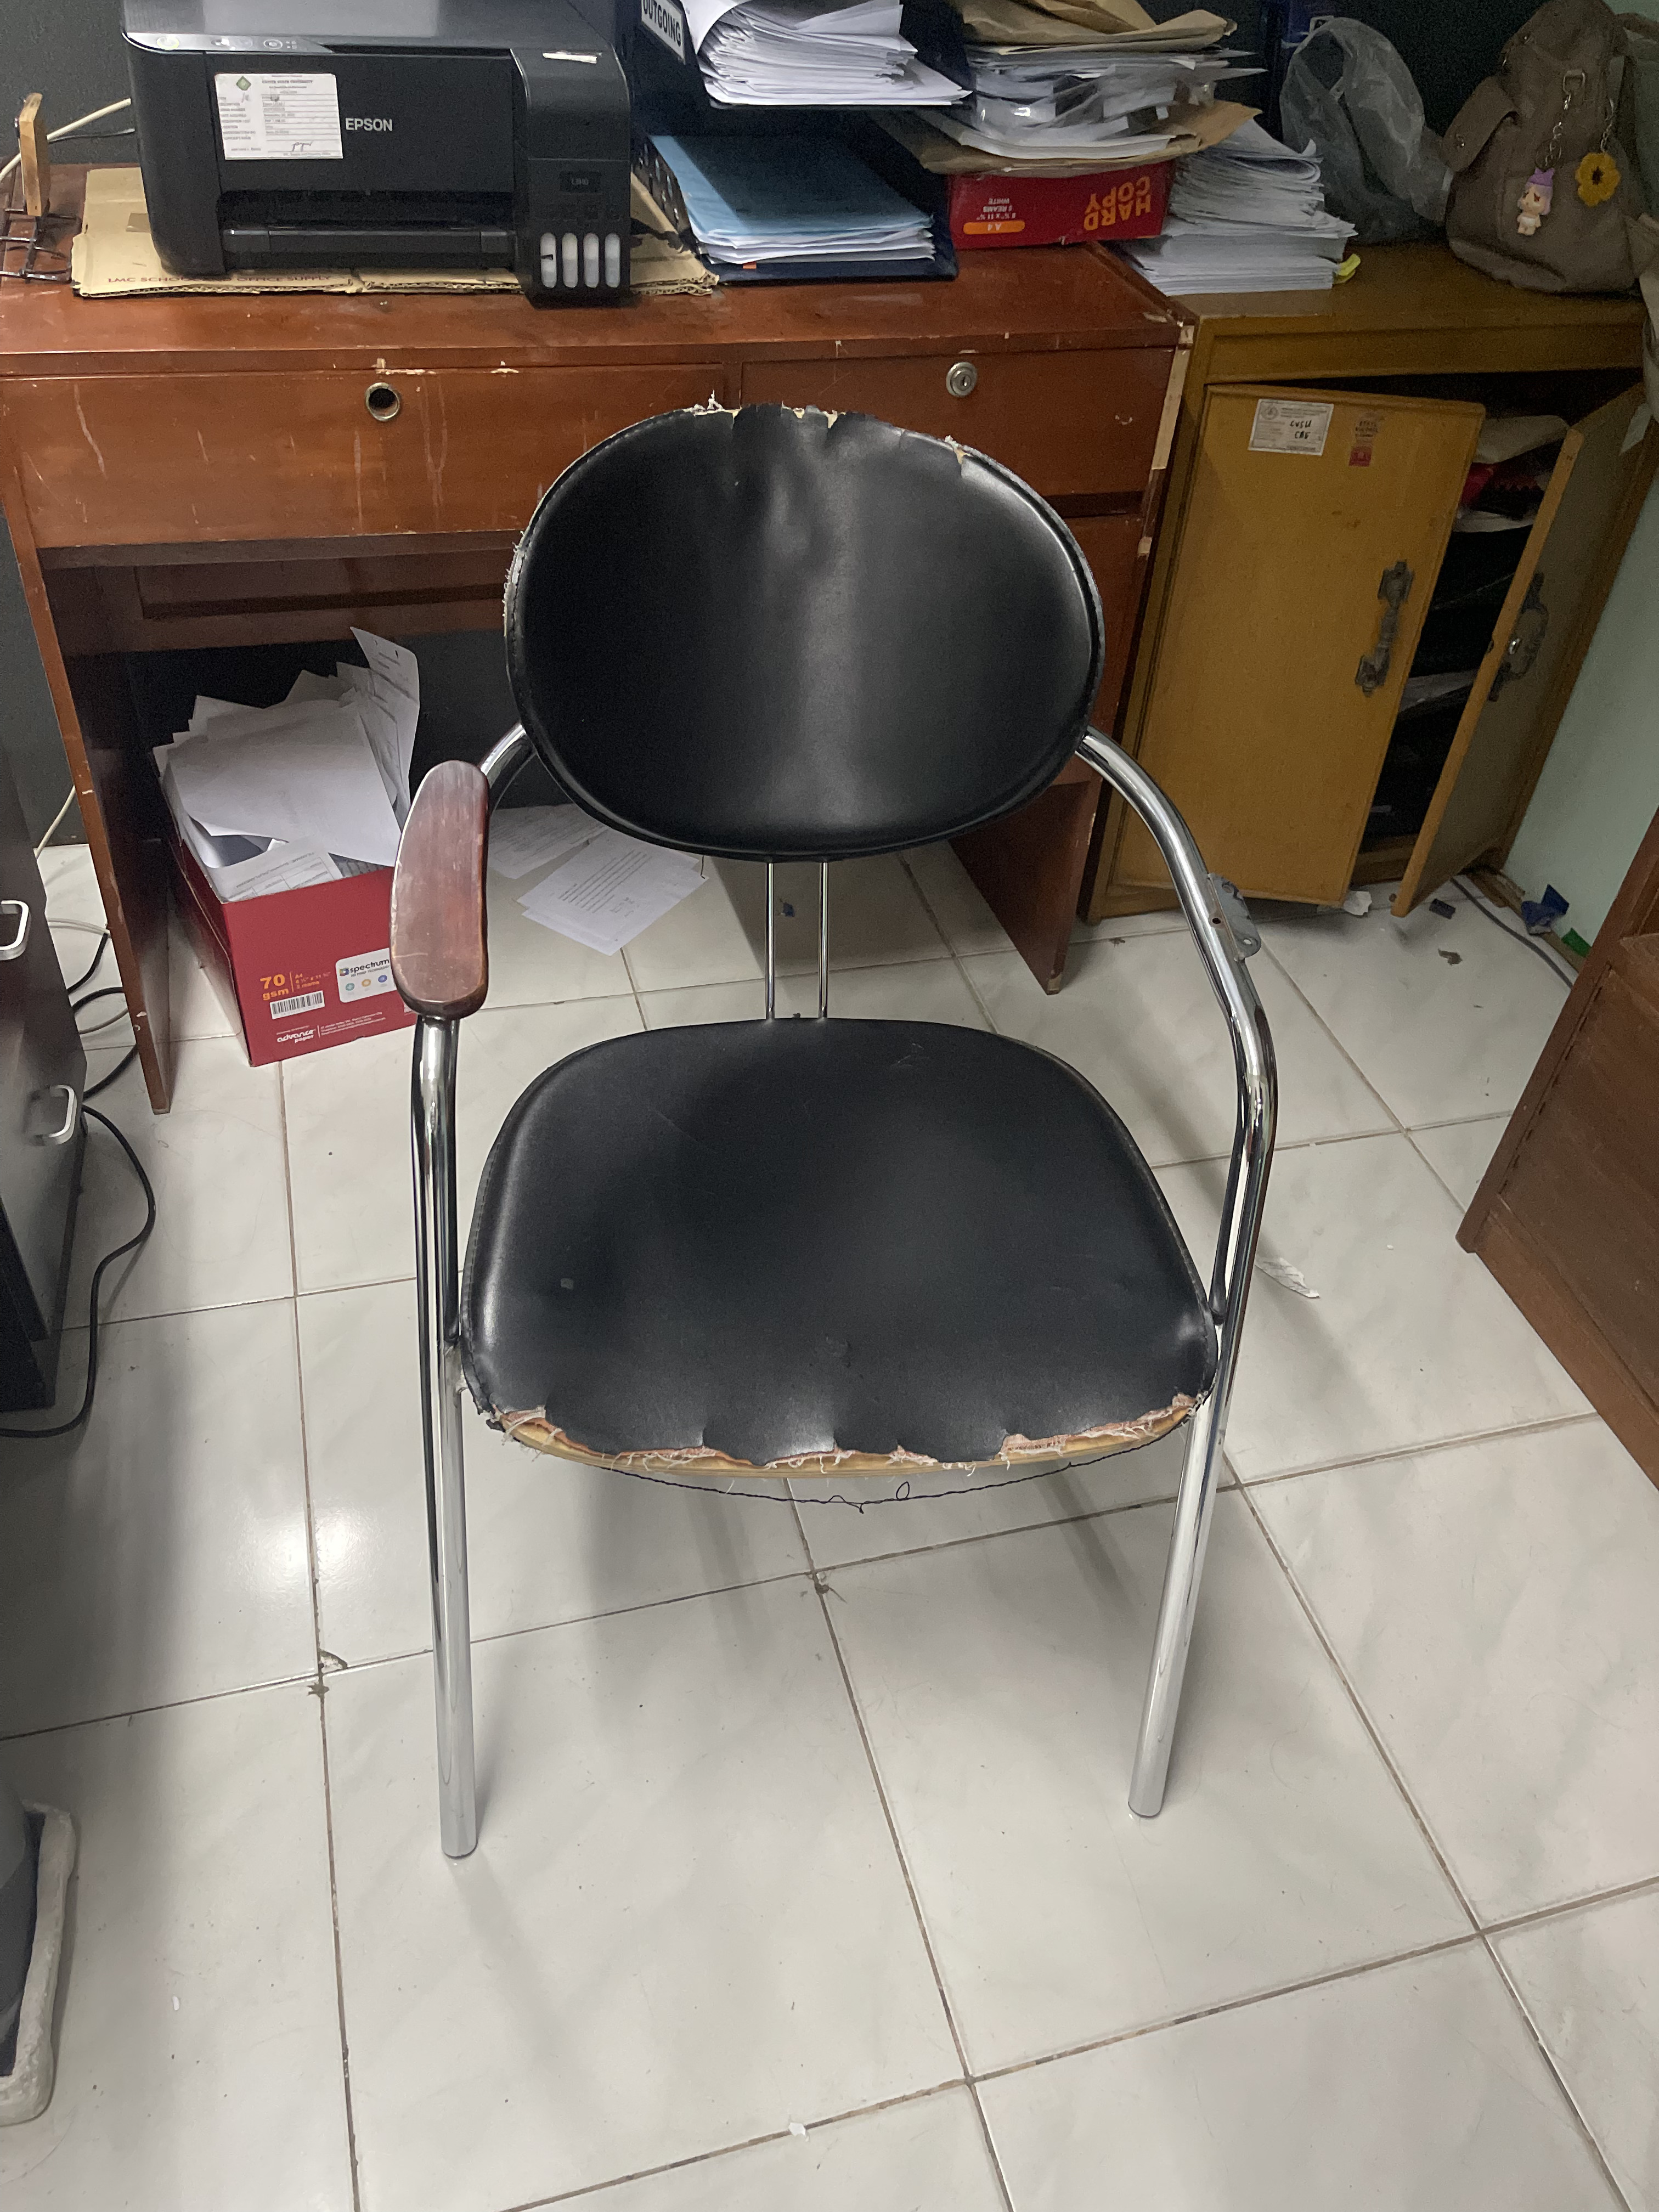chair1: (389, 395, 1283, 1858)
